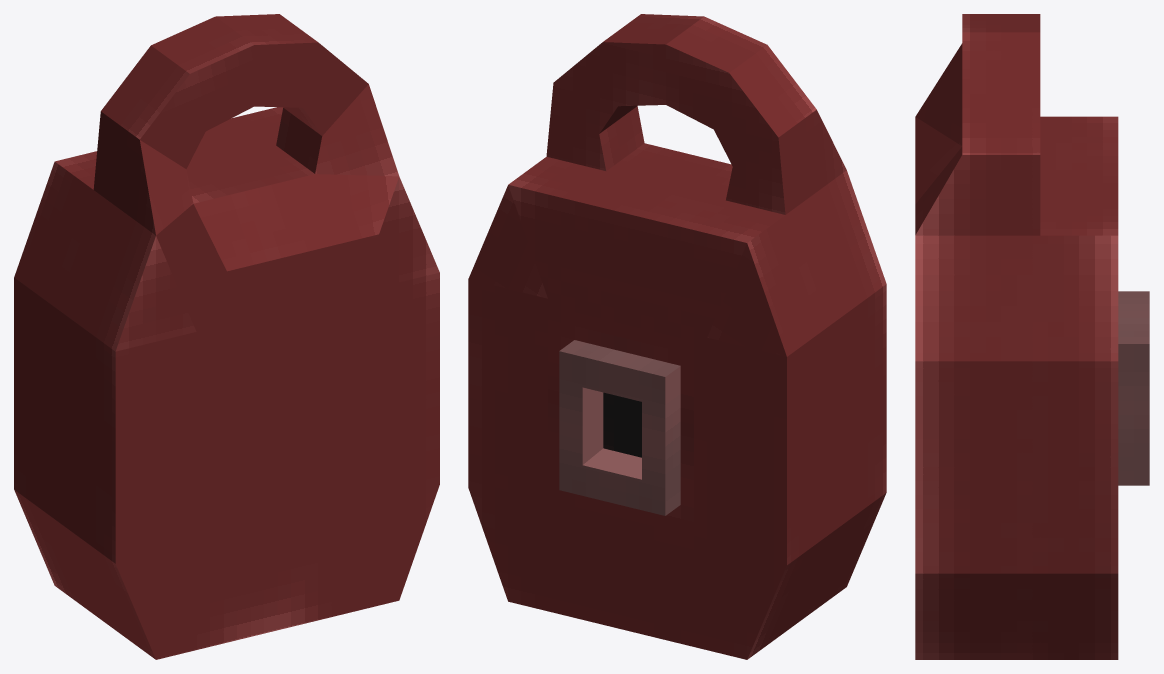
The model's file is lock.gltf.
3 renders of one model, left to right at view 1: azimuth 30°, elevation 25°; view 2: azimuth 150°, elevation 25°; view 3: azimuth 270°, elevation 25°, orthographic.
Visible parts, largest first — view 1: mesh; view 2: mesh (×2); view 3: mesh (×2).
Boxes of the visible parts, <box> form: mesh: <box>14,14,439,659</box>; mesh (×2): <box>468,14,886,659</box>; mesh (×2): <box>915,14,1149,659</box>.
Size of the model in its own units: 0.375 by 0.6276 by 0.2344.
Materials: 1 (1 with a texture image).
